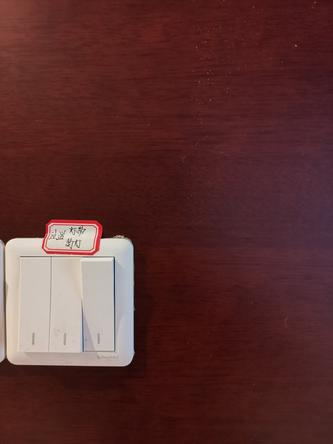switch: (77, 254, 120, 356), (48, 252, 87, 356), (14, 250, 50, 356)
